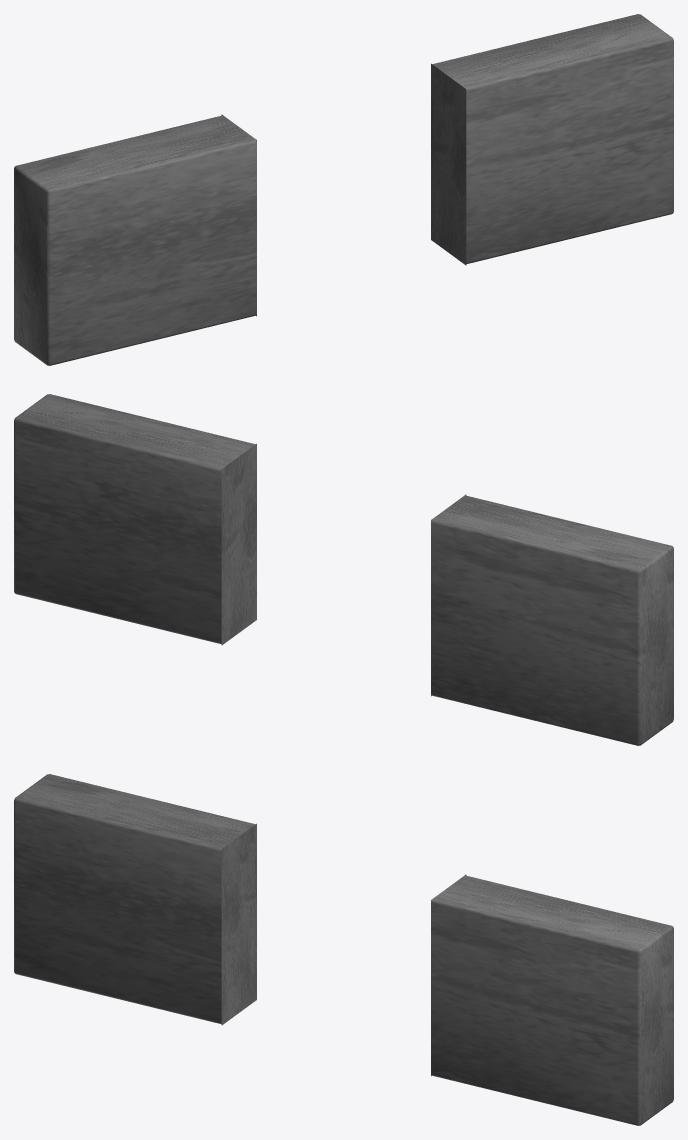
File: RockwallGate_Cvl_12-10-25.fbx
3 renders of one model, top to bottom at view 1: azimuth 30°, elevation 25°; view 2: azimuth 150°, elevation 25°; view 3: azimuth 330°, elevation 25°, orthographic.
Visible parts, largest first — view 1: Wall gate; view 2: Wall gate; view 3: Wall gate.
Part boxes in pixels (x1,y1,x2,y2): Wall gate: (14,14,673,365); Wall gate: (14,394,673,745); Wall gate: (14,774,673,1125).
Size of the model in its own units: 461 by 124 by 44.92.
1 material, 1 textured.
